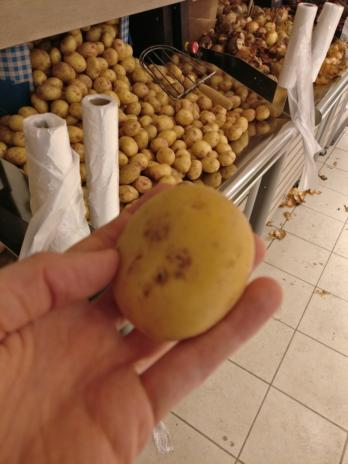Solid potato: (110, 181, 253, 335)
